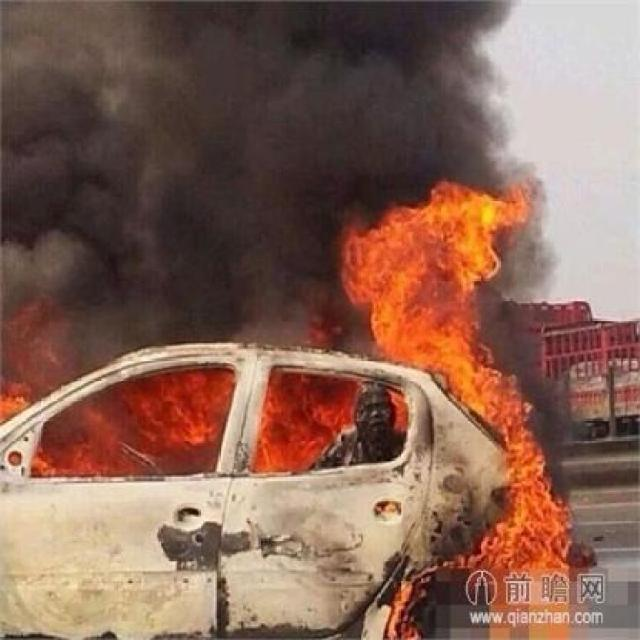Fire: (341, 168, 607, 640), (8, 298, 340, 500)
Smoke: (6, 0, 333, 292), (342, 4, 508, 176)
